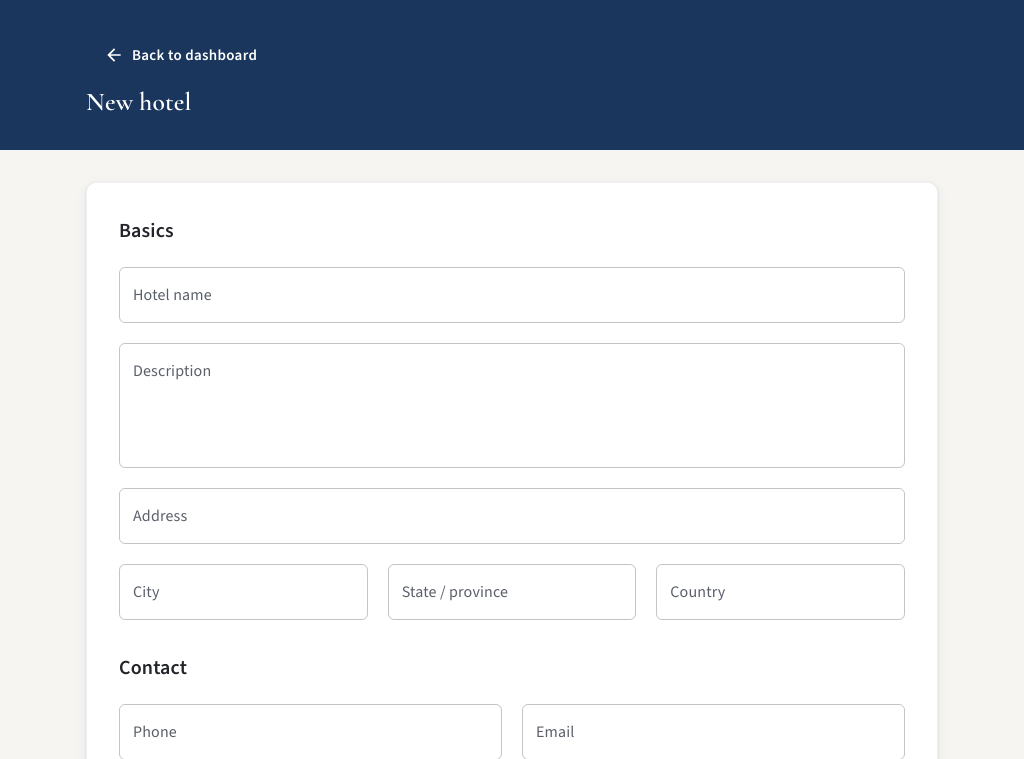
Test case: HotelForm › envía el payload del contrato final: HH:mm, price numérico, rooms entero
Expected: the heading "New hotel" is shown, [86,86,192,117]
Step 1. Type "Posada Nueva" into the field labelled "Hotel name" → (512, 295), box [119,267,905,323]
Step 2. Type "Calle 1" into the field labelled "Address" → (512, 516), box [119,488,905,544]
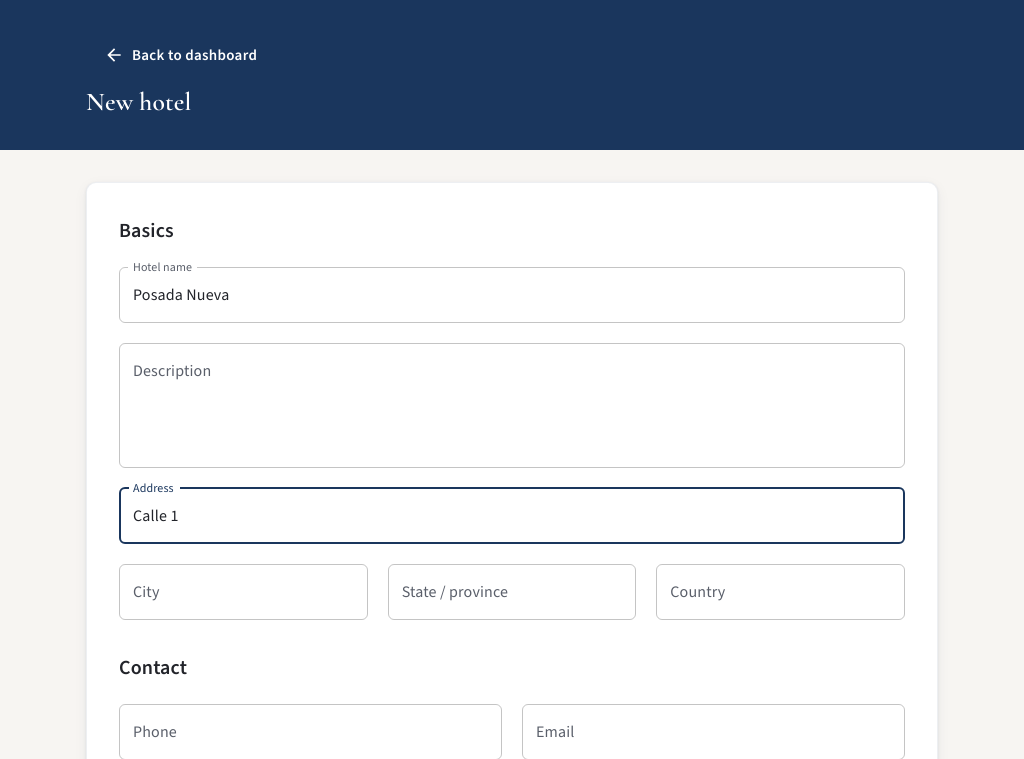
Step 3. Type "Salta" into the field labelled "City" → (243, 592), box [119,564,368,620]
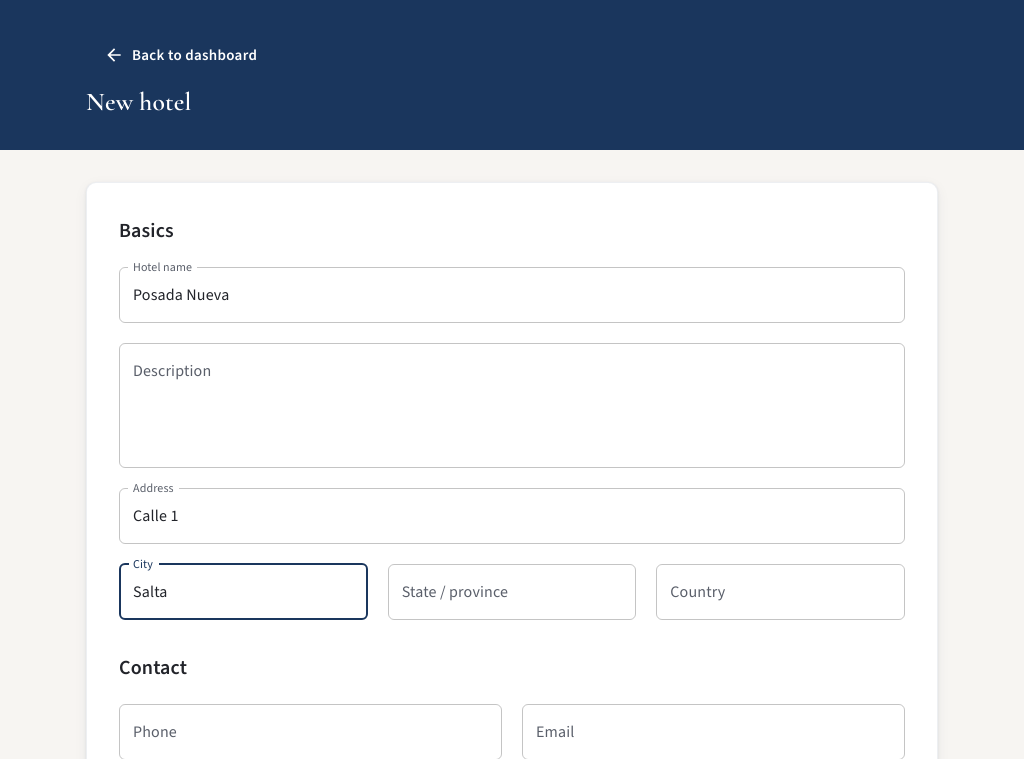
Step 4. Type "Argentina" into the field labelled "Country" → (781, 592), box [656,564,905,620]
(page scrolled)
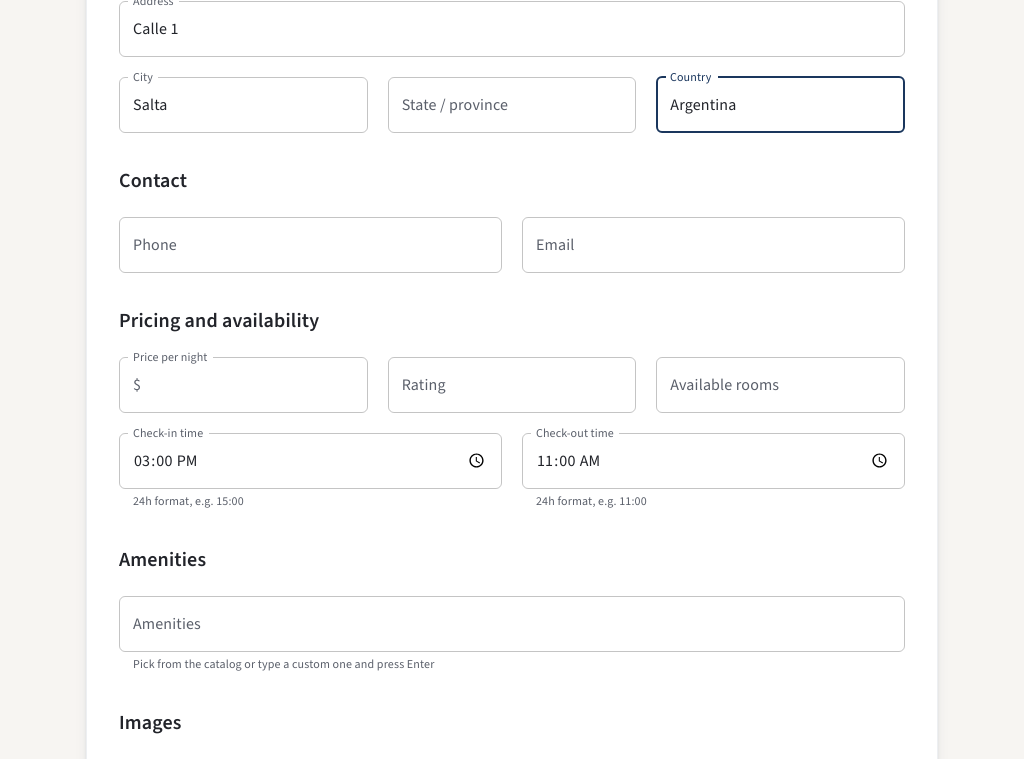
Step 5. Type "120.5" into the number field labelled "Price per night" → (258, 385), box [149,357,368,413]
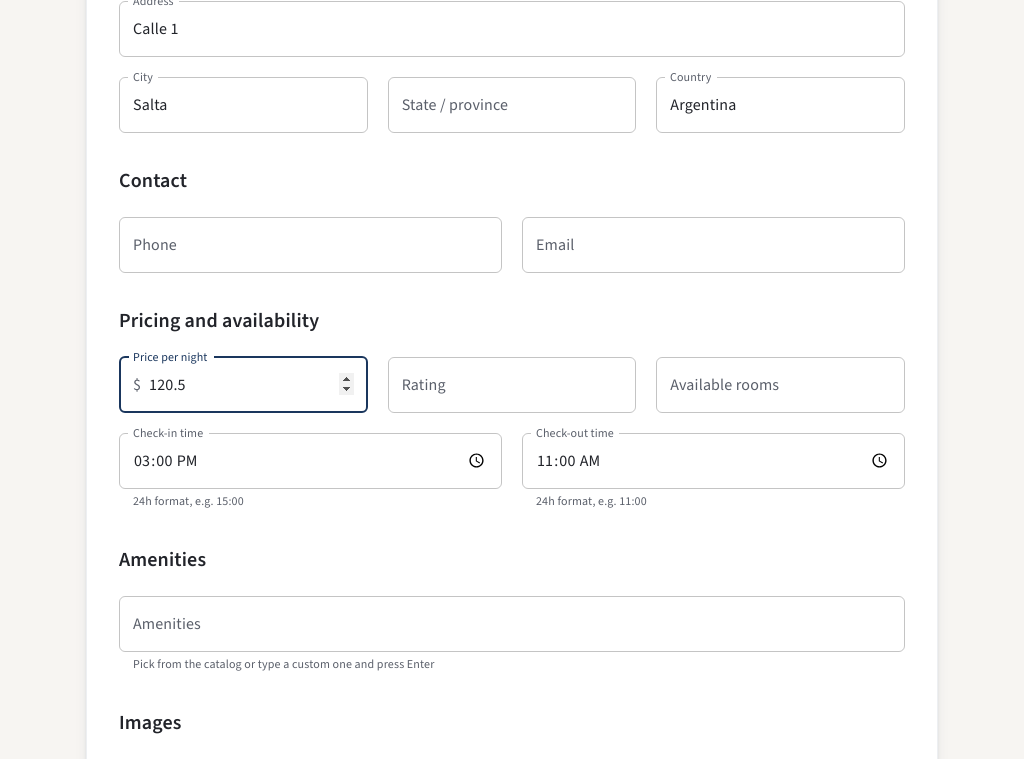
Step 6. Type "8" into the number field labelled "Available rooms" → (781, 385), box [656,357,905,413]
(page scrolled)
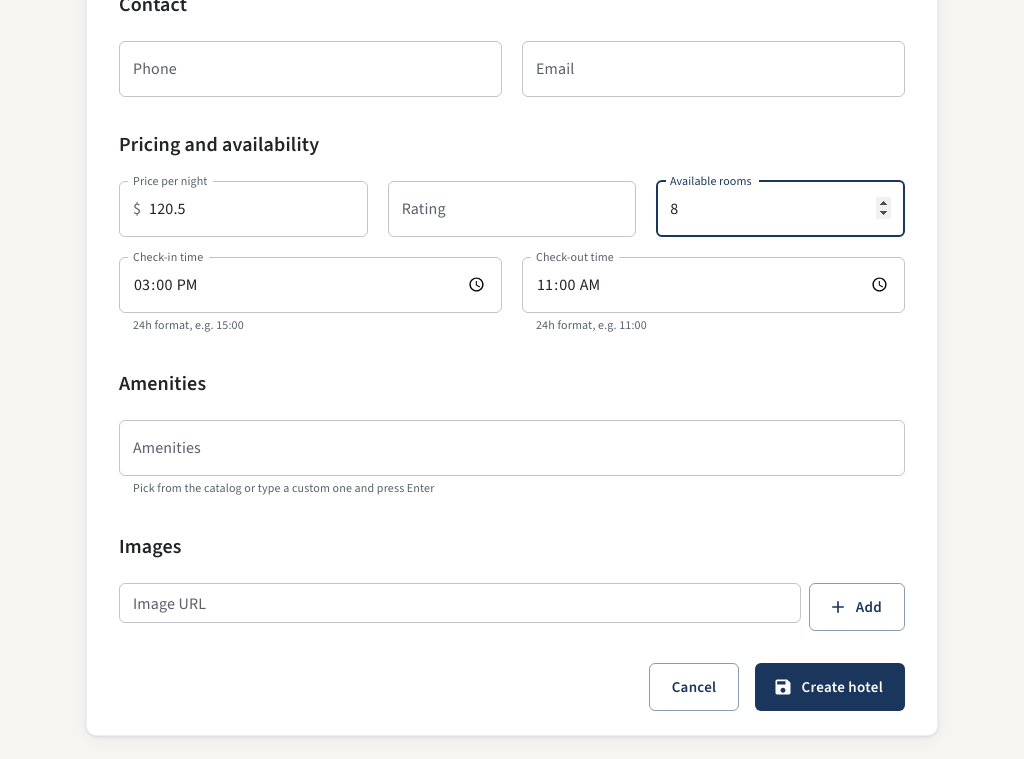
Step 7. Click the button "Create hotel" → (830, 687), box [756,663,905,711]
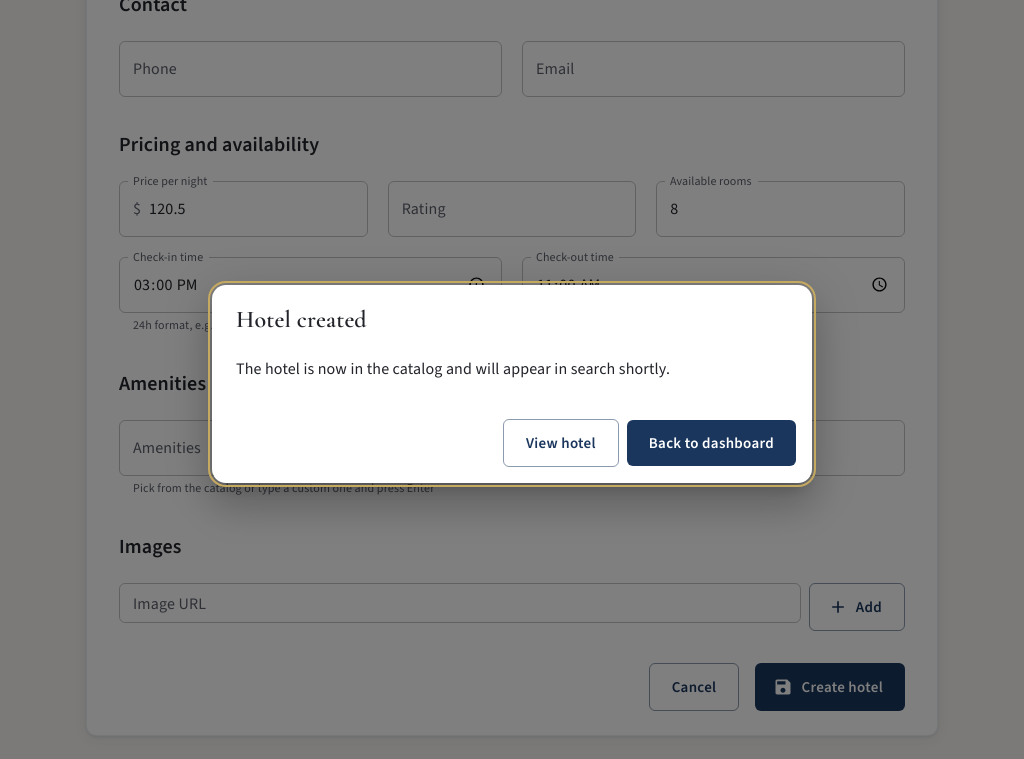
Now the heading "Hotel created" is shown, box [236,305,367,334]
